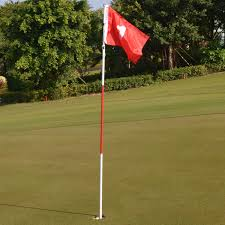Flag: (103, 4, 149, 64)
